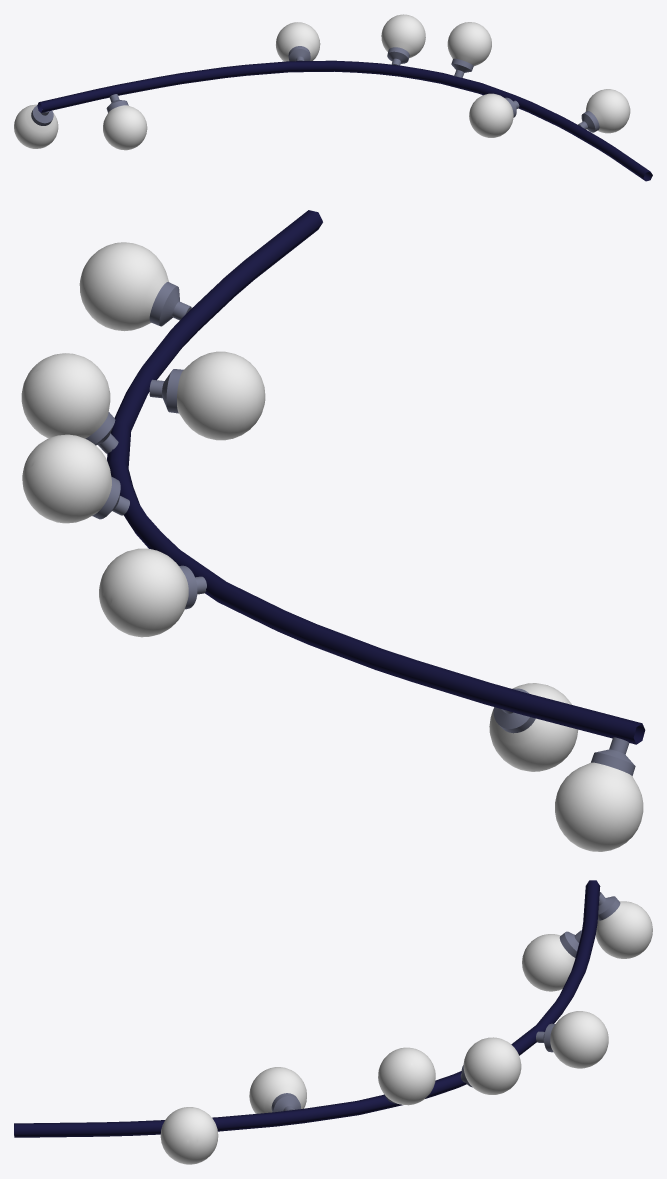
File: Guirlande courbe v2.fbx
The picture shows the model from 3 angles, top to bottom: view 1: azimuth 30°, elevation 25°; view 2: azimuth 150°, elevation 25°; view 3: azimuth 270°, elevation 25°; orthographic projection. The views are drawn at different scales.
Parts seen in each view (by area): view 1: BézierCurve; view 2: BézierCurve; view 3: BézierCurve.
Part boxes in pixels (left/top/right/bottom): BézierCurve: left=14, top=14, right=652, bottom=181; BézierCurve: left=21, top=210, right=645, bottom=851; BézierCurve: left=14, top=880, right=652, bottom=1164.
Bounding box in the file's own units: 221 × 230 × 48.87.
